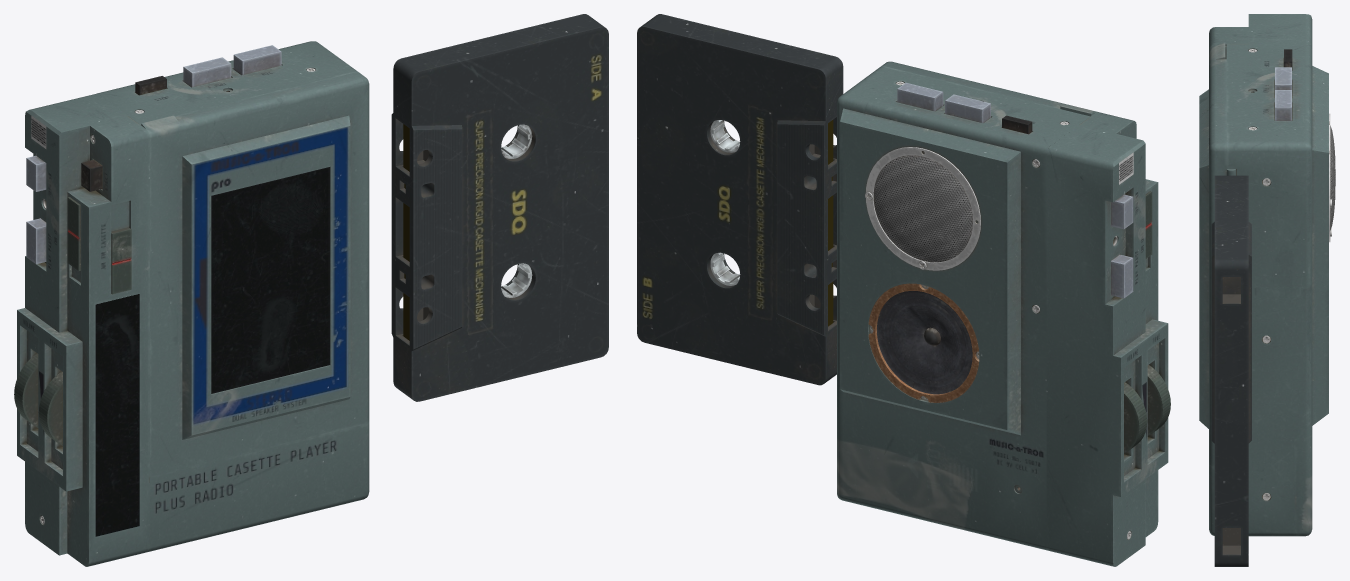
The model's file is portable_cassette_player.glb.
The picture shows the model from 3 angles, left to right: view 1: azimuth 30°, elevation 25°; view 2: azimuth 150°, elevation 25°; view 3: azimuth 270°, elevation 25°; orthographic projection. The views are drawn at different scales.
Visible parts, largest first — view 1: portable_cassette_player_lid; view 2: portable_cassette_player_lid; view 3: portable_cassette_player_lid.
Part boxes in pixels (<box>): portable_cassette_player_lid: <box>14,14,608,566</box>; portable_cassette_player_lid: <box>637,14,1170,566</box>; portable_cassette_player_lid: <box>1199,14,1335,566</box>.
Bounding box in the file's own units: 0.1723 × 0.1303 × 0.0397.
Materials: 2 (2 with a texture image).
